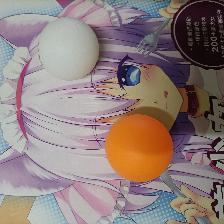WhiteBall: (38, 19, 99, 80)
YellowBall: (105, 114, 173, 182)
